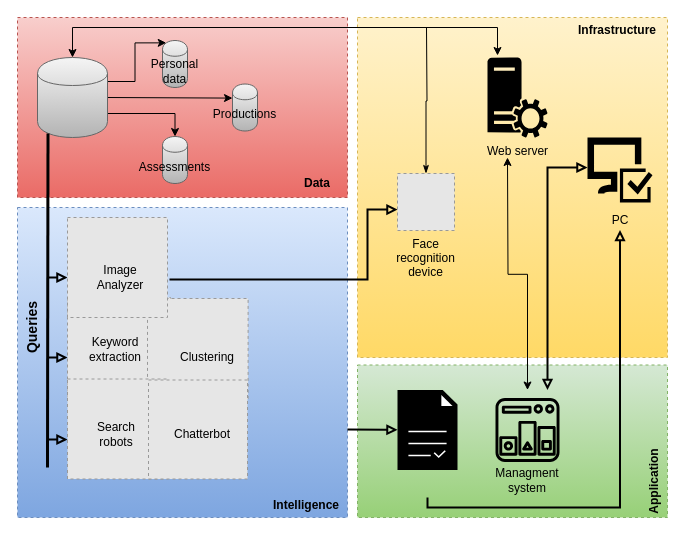
The diagram is 685 pixels wide and 535 high, and some of its shapes have lost their labels. Grey dashed boxes stand in for pictures. The centre of each missing label's shape, as x and y in pixels:
"Recommendations" belongs at point (427, 430).
"VLE" belongs at point (72, 97).
